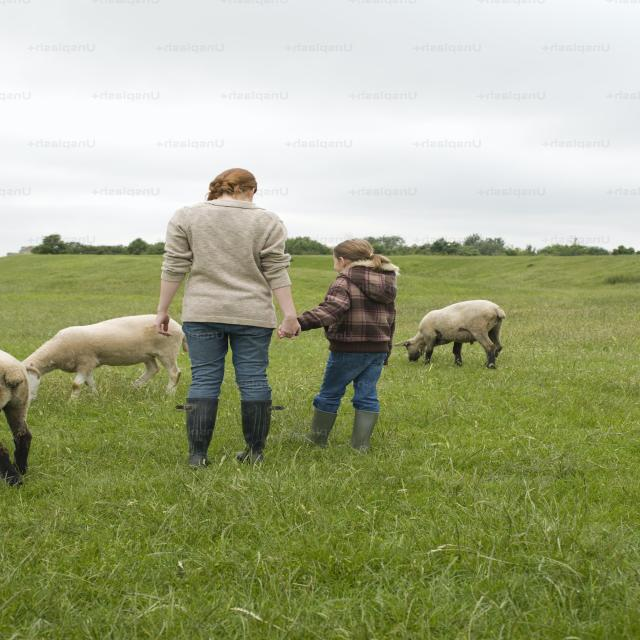adult: (154, 165, 300, 466), (288, 237, 398, 448)
